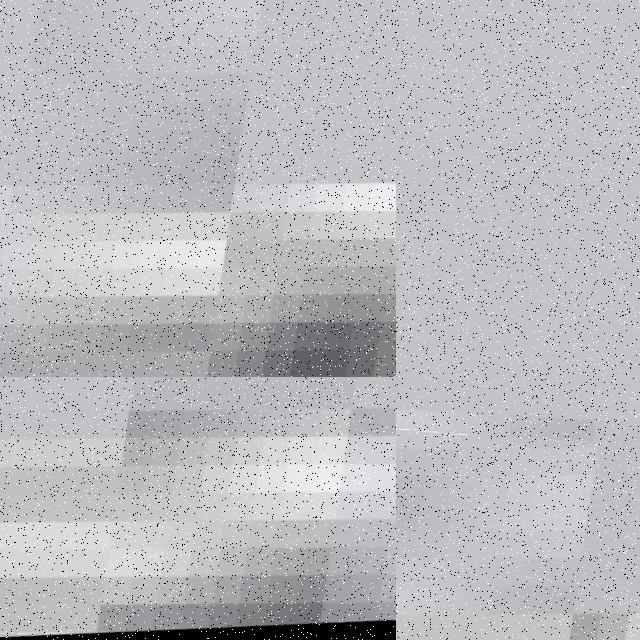drone: (0, 0, 396, 377), (0, 377, 396, 640), (396, 427, 640, 640)
